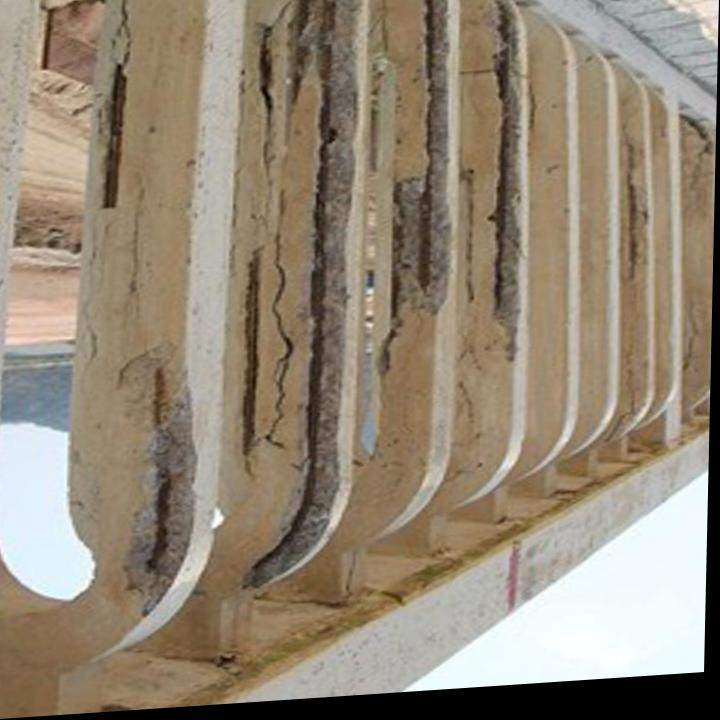crack: (266, 192, 295, 453), (257, 2, 294, 181), (622, 126, 650, 292), (607, 355, 639, 451), (681, 123, 716, 200), (127, 178, 147, 299), (460, 174, 477, 310), (107, 0, 132, 76), (684, 313, 703, 381), (459, 388, 479, 437), (381, 0, 390, 67), (86, 323, 99, 369)
damage: (240, 0, 363, 600), (377, 0, 456, 384), (117, 341, 199, 616), (484, 0, 523, 372), (91, 60, 134, 213), (240, 247, 267, 458)
